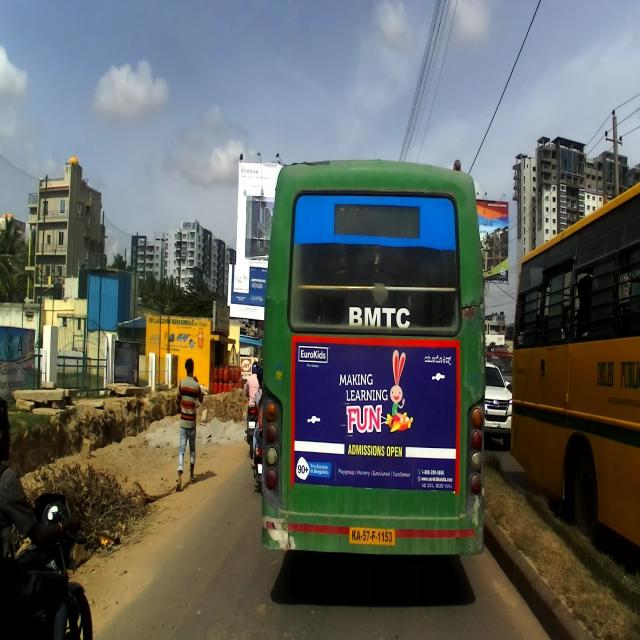bus: (260, 151, 486, 560), (510, 182, 639, 570)
motorcycle_TVS: (0, 492, 94, 639)
